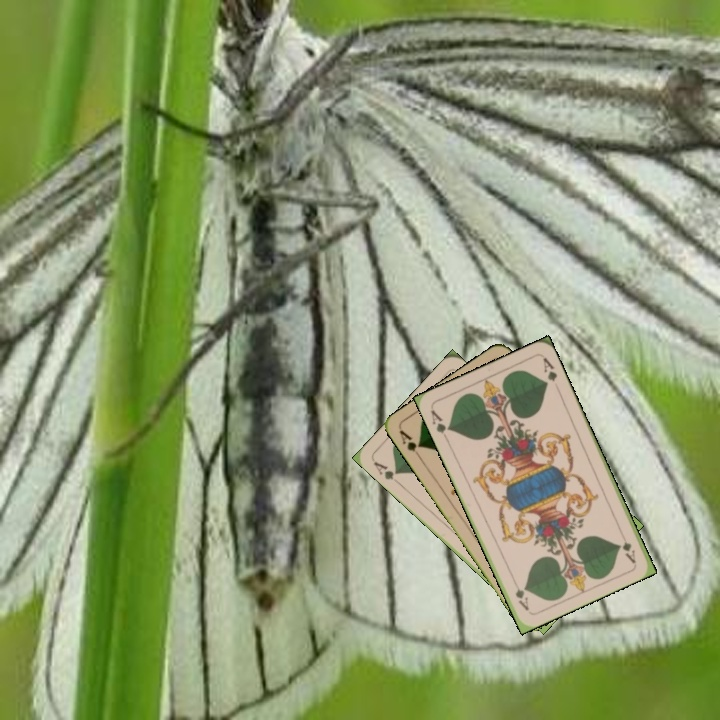GA: (395, 426, 424, 462), (369, 457, 403, 487), (426, 406, 453, 443), (615, 526, 638, 565)
